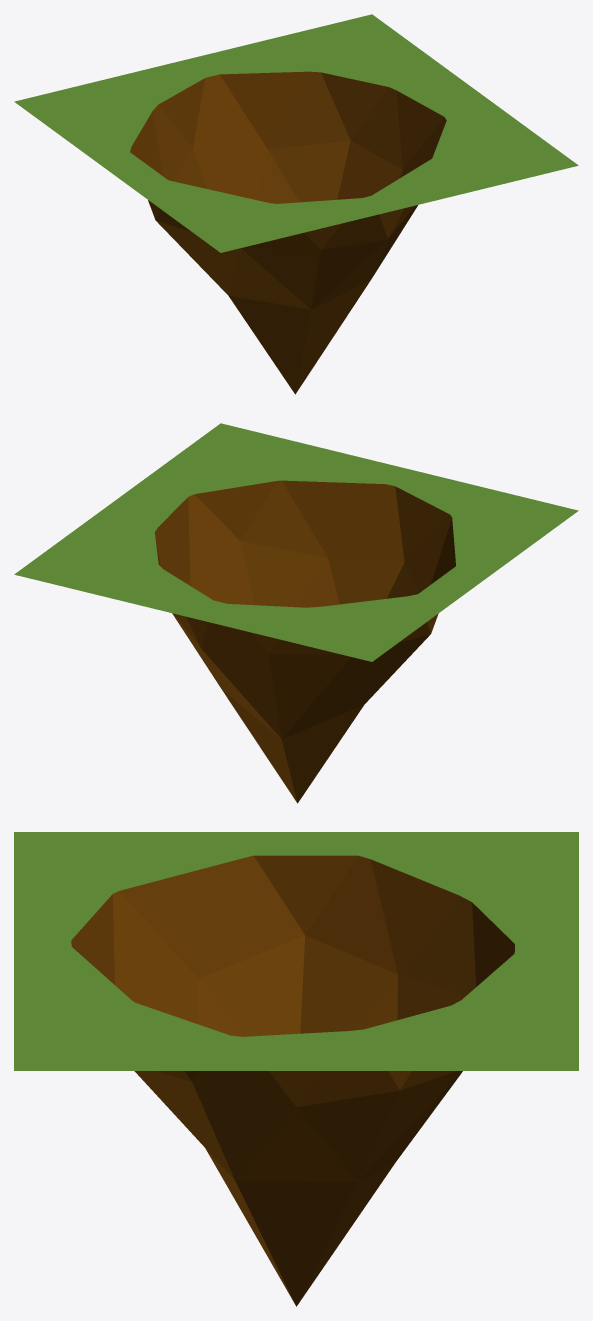
The model's file is cratere.fbx.
The picture shows the model from 3 angles, top to bottom: view 1: azimuth 30°, elevation 25°; view 2: azimuth 150°, elevation 25°; view 3: azimuth 270°, elevation 25°; orthographic projection. The views are drawn at different scales.
Parts seen in each view (by area): view 1: Plane; view 2: Plane; view 3: Plane.
Boxes of the visible parts, <box> form: Plane: <box>14,14,578,394</box>; Plane: <box>14,423,578,803</box>; Plane: <box>14,832,578,1306</box>.
Size of the model in its own units: 284 by 198 by 284.
